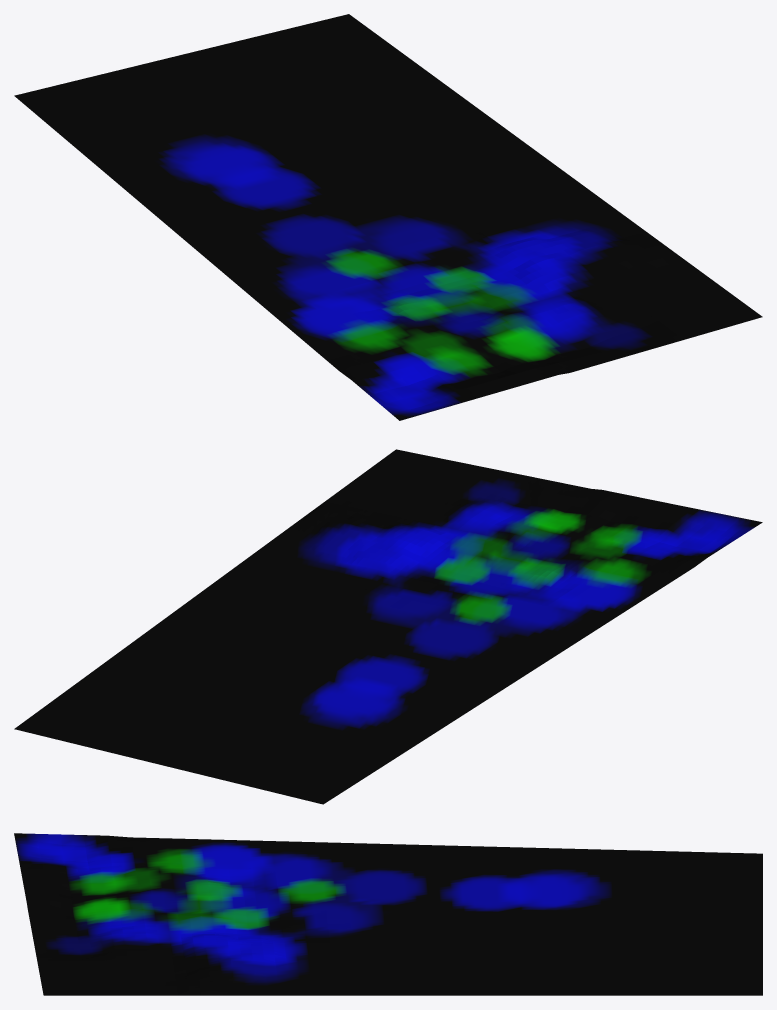
The picture shows the model from 3 angles, top to bottom: view 1: azimuth 30°, elevation 25°; view 2: azimuth 150°, elevation 25°; view 3: azimuth 270°, elevation 25°; orthographic projection. The views are drawn at different scales.
Parts seen in each view (by area): view 1: Sprite__4_; view 2: Sprite__4_; view 3: Sprite__4_.
Boxes of the visible parts, bbox=[...] form: Sprite__4_: bbox=[14, 14, 762, 420]; Sprite__4_: bbox=[14, 449, 762, 804]; Sprite__4_: bbox=[14, 833, 762, 995].
Bounding box in the file's own units: 1678 × 56.59 × 3293.
